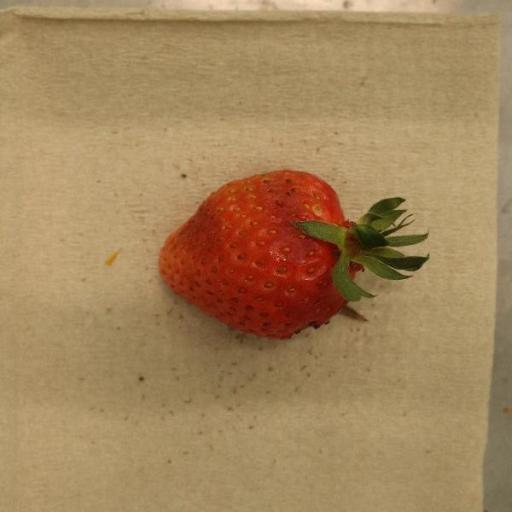Strawberry: (158, 170, 430, 340)
